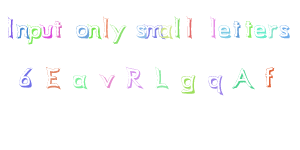6: (12, 61, 37, 90)
A: (230, 63, 258, 91)
E: (43, 60, 67, 91)
I: (4, 13, 15, 43)
L: (151, 63, 174, 92)
R: (123, 60, 145, 93)
a: (71, 70, 91, 93), (160, 21, 174, 44)
e: (217, 20, 233, 44), (254, 21, 268, 41)
f: (262, 65, 279, 91)
g: (178, 70, 200, 98)
l: (184, 14, 197, 44), (207, 12, 219, 44), (100, 13, 112, 43), (172, 14, 184, 44)
m: (144, 19, 165, 47)
n: (14, 18, 29, 43), (87, 20, 102, 43)
o: (74, 20, 89, 42)
p: (28, 21, 41, 46)
q: (207, 70, 228, 99)
r: (269, 23, 279, 41)
s: (278, 22, 293, 41), (135, 20, 147, 43)
t: (53, 18, 67, 41), (231, 17, 243, 42), (244, 18, 254, 41)
u: (39, 20, 54, 42)
v: (97, 69, 117, 91)
y: (111, 23, 129, 47)
